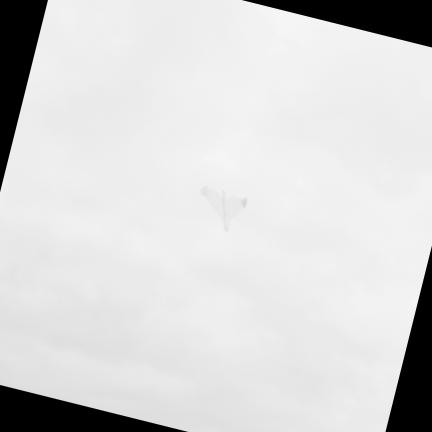Shahed: (200, 186, 246, 230)
